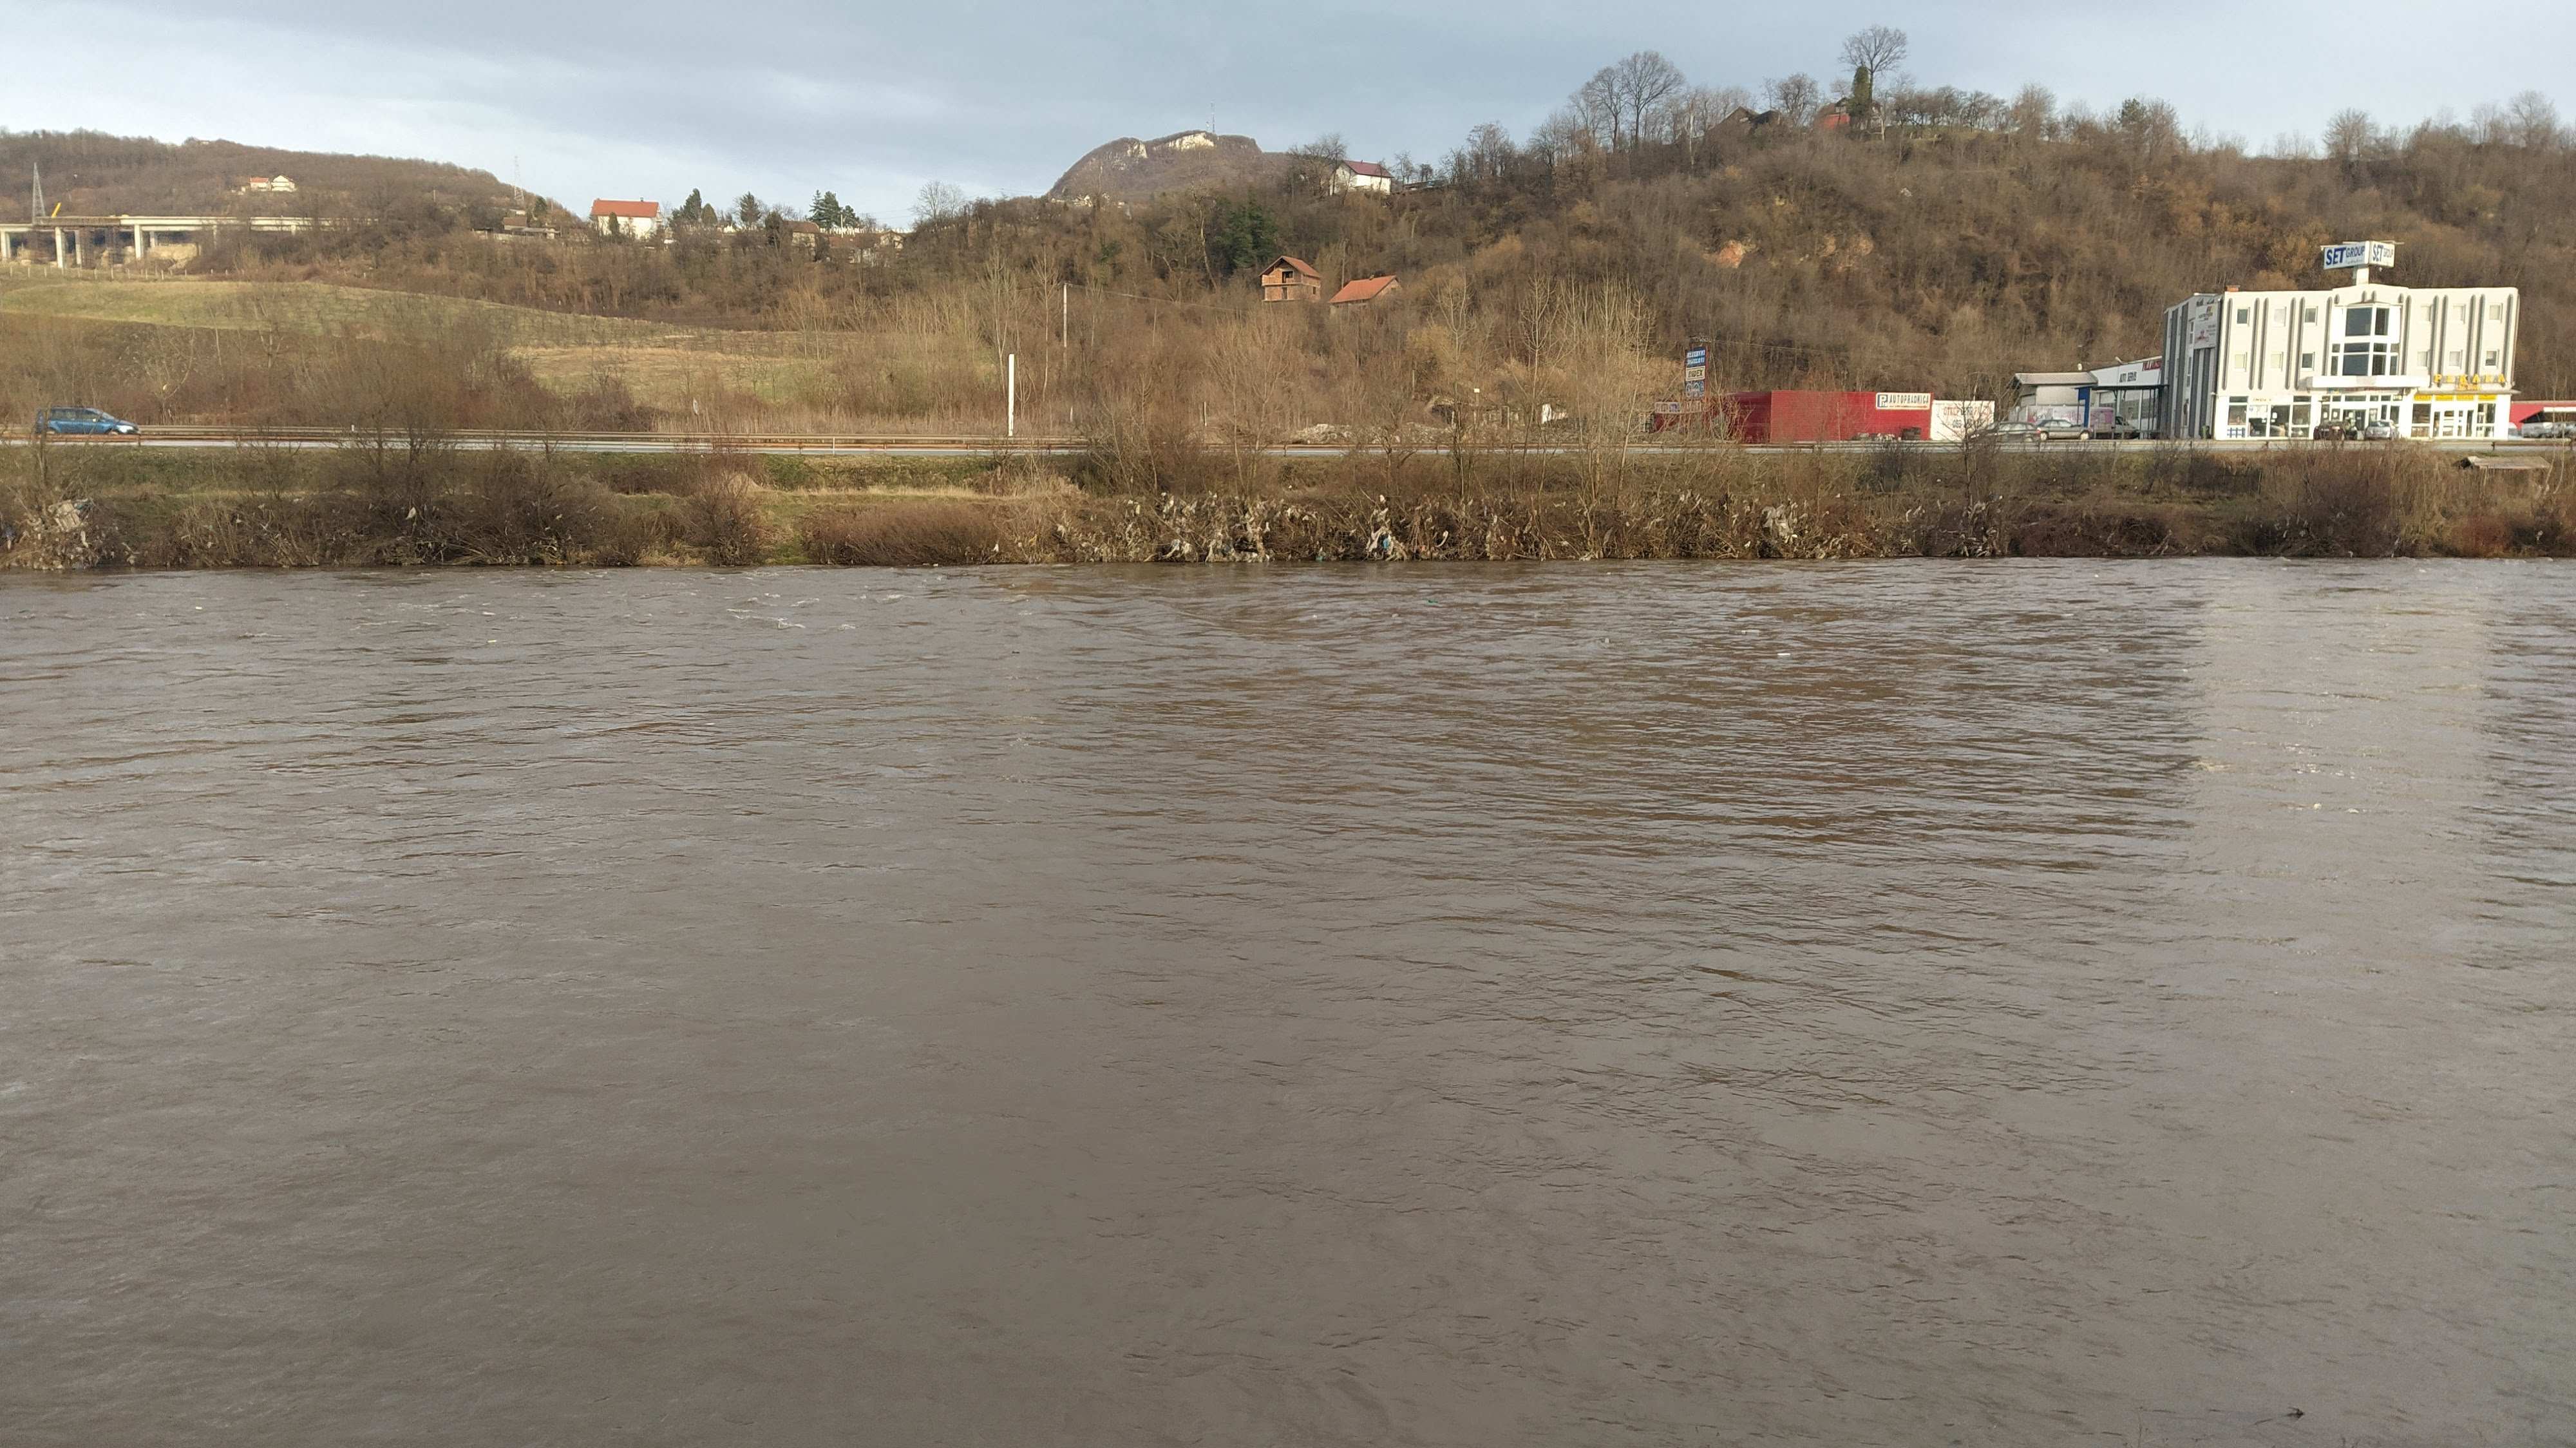Plastic Bottle: (1743, 630, 1760, 634), (1776, 651, 1790, 655), (487, 639, 497, 643), (1392, 612, 1399, 618), (2063, 612, 2074, 616), (1010, 650, 1019, 653), (195, 605, 202, 609), (1430, 598, 1437, 602), (1605, 637, 1608, 643)
